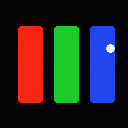0 point: (106, 44, 114, 52)
